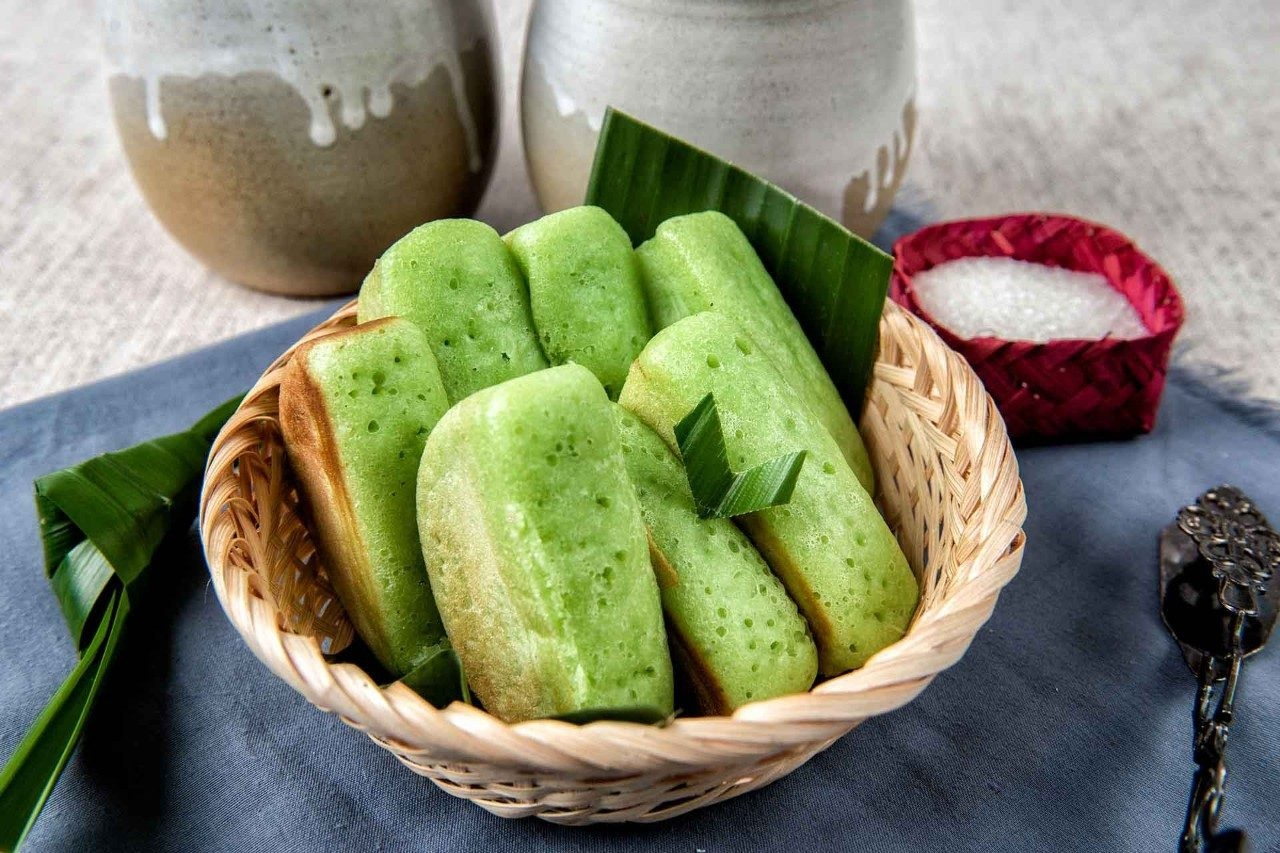pukis: (358, 390, 686, 727)
